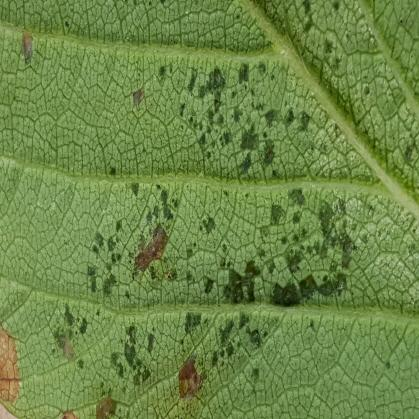Angular Leafspot: (0, 0, 418, 418)
